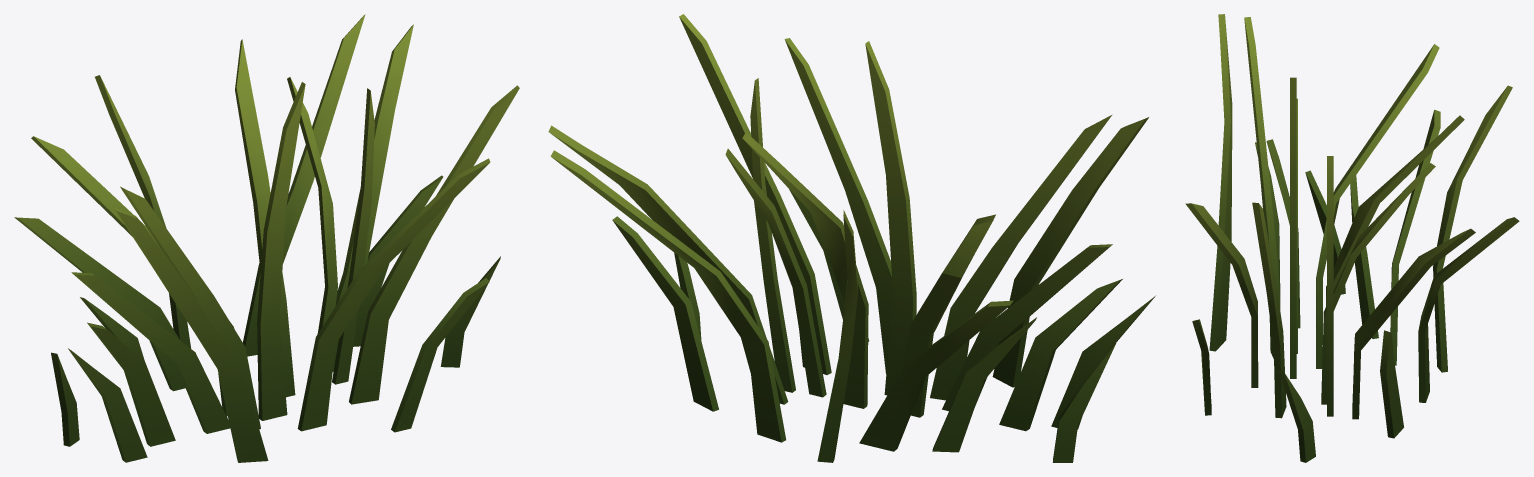
The model's file is Grass1.glb.
3 renders of one model, left to right at view 1: azimuth 30°, elevation 25°; view 2: azimuth 150°, elevation 25°; view 3: azimuth 270°, elevation 25°, orthographic. The views are drawn at different scales.
Visible parts, largest first — view 1: Grass_Large_Extruded; view 2: Grass_Large_Extruded; view 3: Grass_Large_Extruded.
Part boxes in pixels (x1,y1,x2,y2): Grass_Large_Extruded: (14,14,519,462); Grass_Large_Extruded: (548,14,1155,462); Grass_Large_Extruded: (1185,14,1519,462).
Bounding box in the file's own units: 0.3723 × 0.2544 × 0.2487.
Materials: 1 (1 with a texture image).
